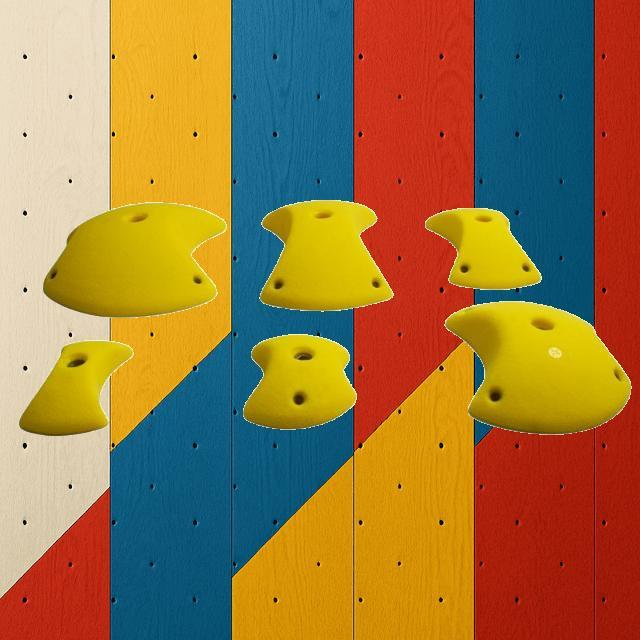Pinch: (444, 300, 632, 434), (42, 200, 226, 318), (259, 199, 393, 311), (18, 338, 132, 436), (242, 334, 356, 428), (424, 206, 540, 290)
